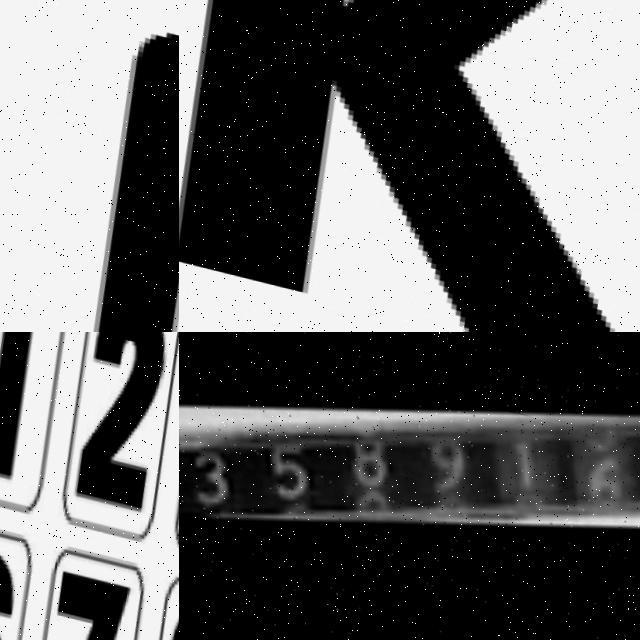0: (45, 8, 179, 332)
1: (0, 332, 47, 479), (493, 417, 543, 487)
2: (63, 332, 176, 513)
3: (179, 434, 237, 510)
5: (253, 424, 316, 501)
6: (572, 436, 629, 502)
7: (19, 560, 133, 640)
8: (335, 417, 393, 492)
9: (410, 414, 475, 493)
K: (179, 0, 640, 332)
